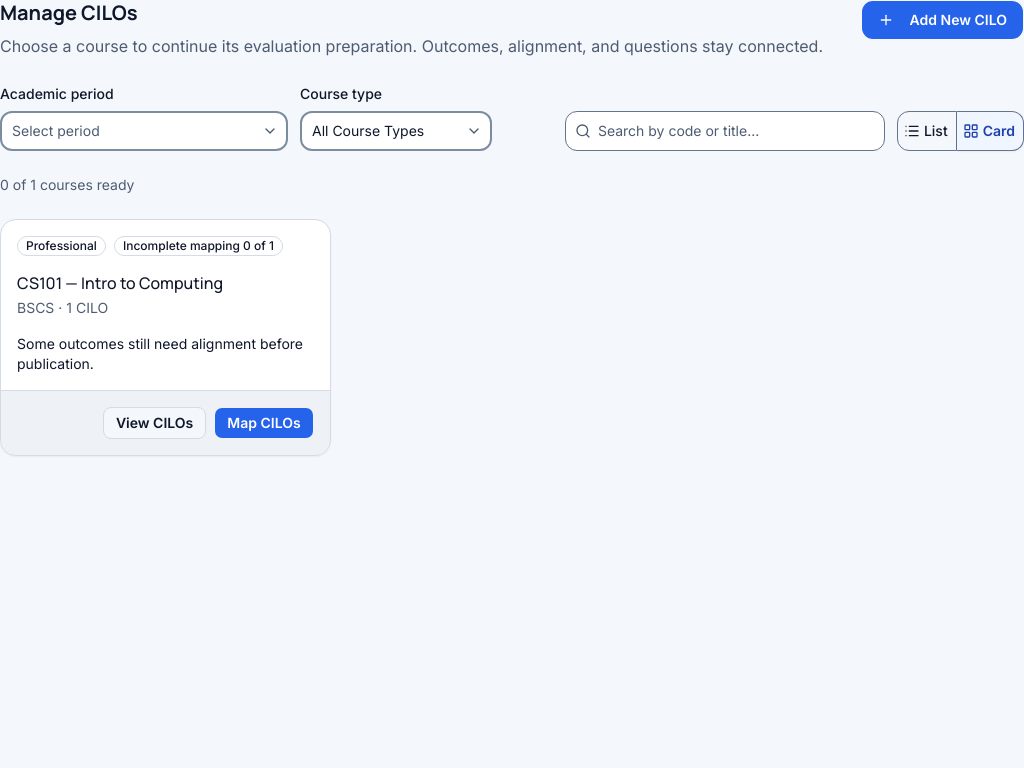
FacultyCilosCourseList › surfaces a failed save without closing the modal
Click the button with aria-label "View CILOs for CS101" at (155, 423), box 103,407 -> 206,439
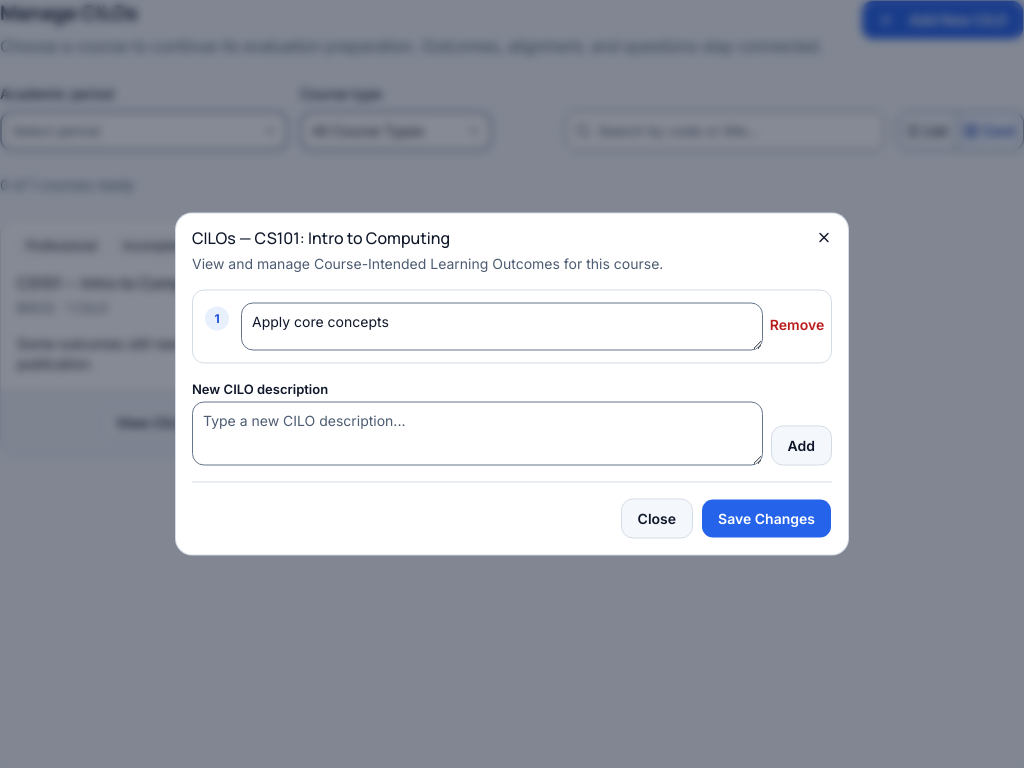
Expected: the dialog is shown, 176,214 -> 848,554
Expected: the text box showing "Apply core concepts" is shown, 241,302 -> 763,350
Click the button "Save Changes" at (767, 518), box 701,498 -> 832,538
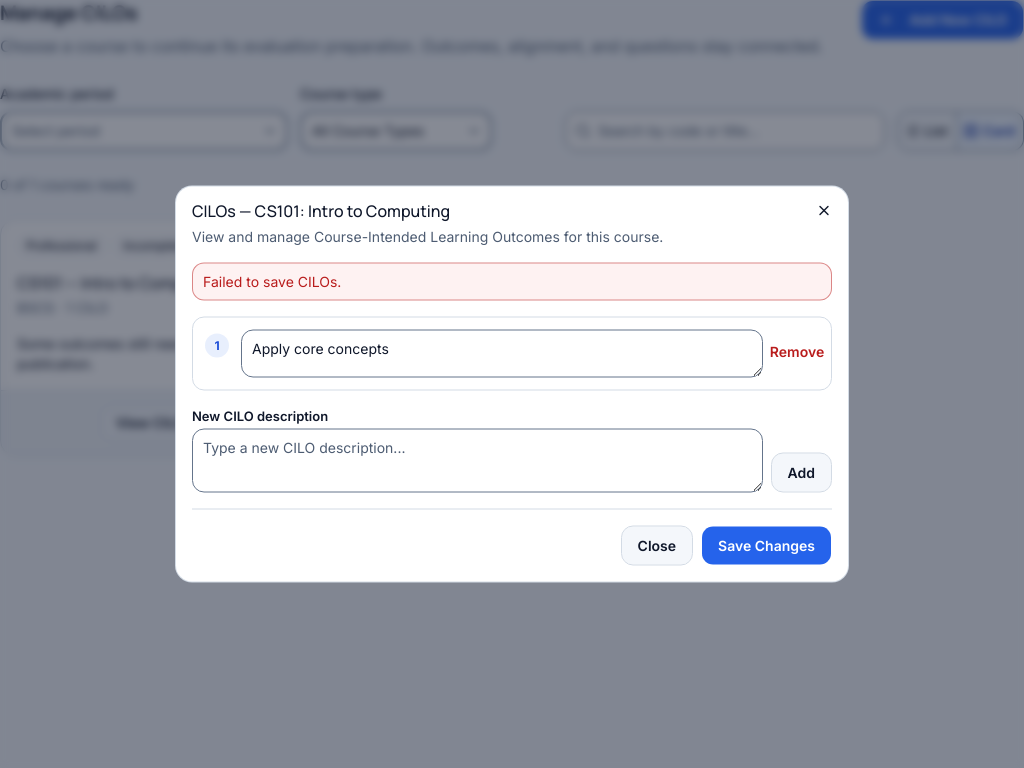
Expected: the dialog is shown, 176,186 -> 848,582
Expected: the message reads "Failed to save CILOs.", 203,272 -> 341,290
